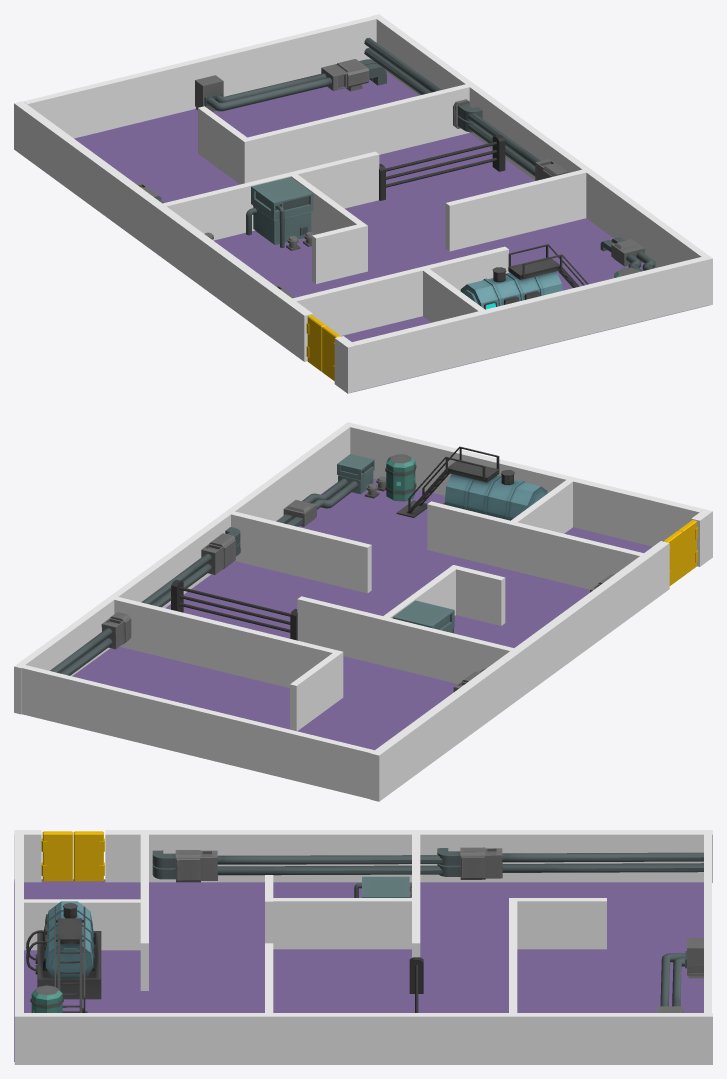
Rendered from maps_40.fbx.
3 renders of one model, top to bottom at view 1: azimuth 30°, elevation 25°; view 2: azimuth 150°, elevation 25°; view 3: azimuth 270°, elevation 25°, orthographic. The views are drawn at different scales.
Parts seen in each view (by area): view 1: wall_01_08_geo, wall_01_05_geo, wall_01_07_geo, wall_01_09_geo, wall_01_06_geo, wall_01_09_geo6, wall_01_09_geo3, wall_01_09_geo8, wall_01_09_geo4, generatorStation_03_geo1, tankwater_geo, generatorStation_05_geo (+11 smaller); view 2: wall_01_08_geo, wall_01_09_geo, wall_01_07_geo, wall_01_05_geo, wall_01_06_geo, wall_01_09_geo3, wall_01_09_geo6, wall_01_09_geo4, wall_01_09_geo8, tankwater_geo, wall_01_11_geo5, generatorStation_04_geo (+11 smaller); view 3: wall_01_08_geo, wall_01_06_geo, wall_01_07_geo, wall_01_11_geo6, generatorStation_03_geo3, generatorStation_03_geo2, tankwater_geo, wall_01_11_geo5, wall_01_11_geo8, generatorStation_03_geo1, wall_01_05_geo, polySurface161 (+11 smaller).
Part boxes in pixels (x1,y1,x2,y2): wall_01_08_geo: [74, 72, 708, 392]; wall_01_05_geo: [352, 257, 705, 391]; wall_01_07_geo: [14, 101, 312, 361]; wall_01_09_geo: [23, 16, 376, 138]; wall_01_06_geo: [372, 14, 712, 306]; wall_01_09_geo6: [247, 84, 469, 181]; wall_01_09_geo3: [292, 246, 508, 335]; wall_01_09_geo8: [445, 169, 586, 251]; wall_01_09_geo4: [163, 151, 379, 240]; generatorStation_03_geo1: [195, 59, 386, 111]; tankwater_geo: [460, 244, 588, 309]; generatorStation_05_geo: [246, 177, 313, 247]; wall_01_08_geo: [72, 478, 652, 750]; wall_01_09_geo: [21, 665, 374, 798]; wall_01_07_geo: [370, 541, 669, 801]; wall_01_05_geo: [350, 424, 703, 546]; wall_01_06_geo: [14, 422, 354, 714]; wall_01_09_geo3: [427, 501, 643, 589]; wall_01_09_geo6: [114, 597, 336, 688]; wall_01_09_geo4: [297, 596, 513, 683]; wall_01_09_geo8: [231, 511, 371, 593]; tankwater_geo: [396, 446, 547, 520]; wall_01_11_geo5: [290, 650, 343, 731]; generatorStation_04_geo: [276, 454, 374, 526]; wall_01_08_geo: [14, 879, 703, 1061]; wall_01_06_geo: [14, 1013, 712, 1064]; wall_01_07_geo: [105, 830, 712, 882]; wall_01_11_geo6: [273, 898, 412, 949]; generatorStation_03_geo3: [152, 850, 442, 882]; generatorStation_03_geo2: [437, 847, 703, 879]; tankwater_geo: [26, 901, 101, 1012]; wall_01_11_geo5: [509, 898, 606, 949]; wall_01_11_geo8: [24, 899, 140, 950]; generatorStation_03_geo1: [657, 938, 703, 1012]; wall_01_05_geo: [14, 834, 23, 1012]; polySurface161: [73, 831, 104, 881].
Bounding box in the file's own units: 73.34 × 13.25 × 116.
6 materials, 6 textured.
